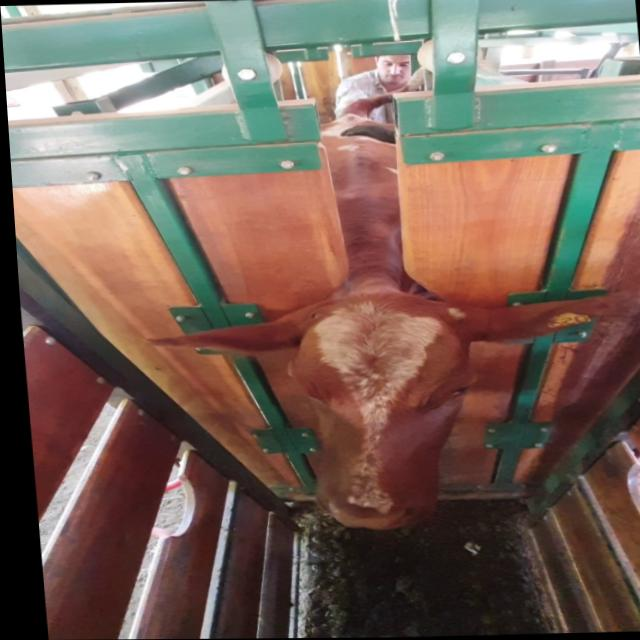cowFace: (270, 287, 480, 531)
